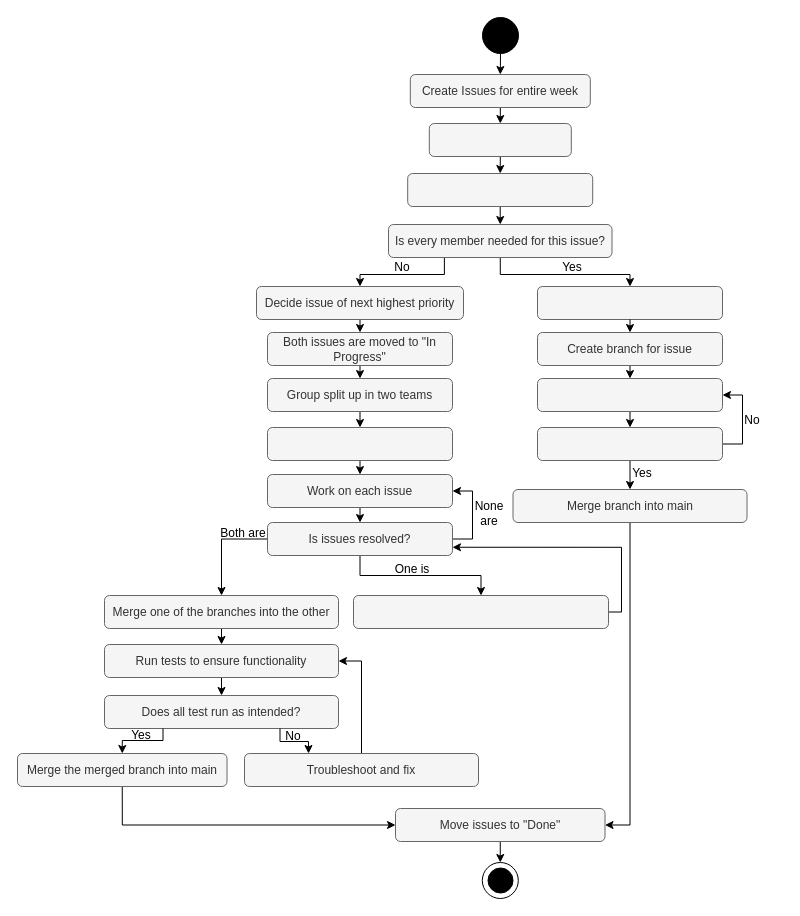
This 800x916 diagram has some shape labels left out. Each missing label, with the centre of its shape:
Both teams group up to solve remaining issue: pixel 480 611
Create branch for each issue: pixel 359 443
Decide issue of highest priority: pixel 500 189
Is issue resolved?: pixel 629 443
Issue is moved to "In Progess": pixel 629 303
Issues is added to "Todo": pixel 499 139
Work on issue: pixel 629 395
